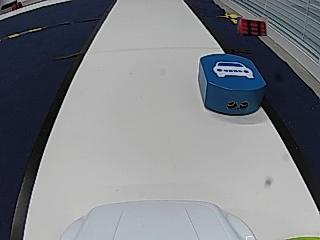safety: (213, 60, 255, 79)
